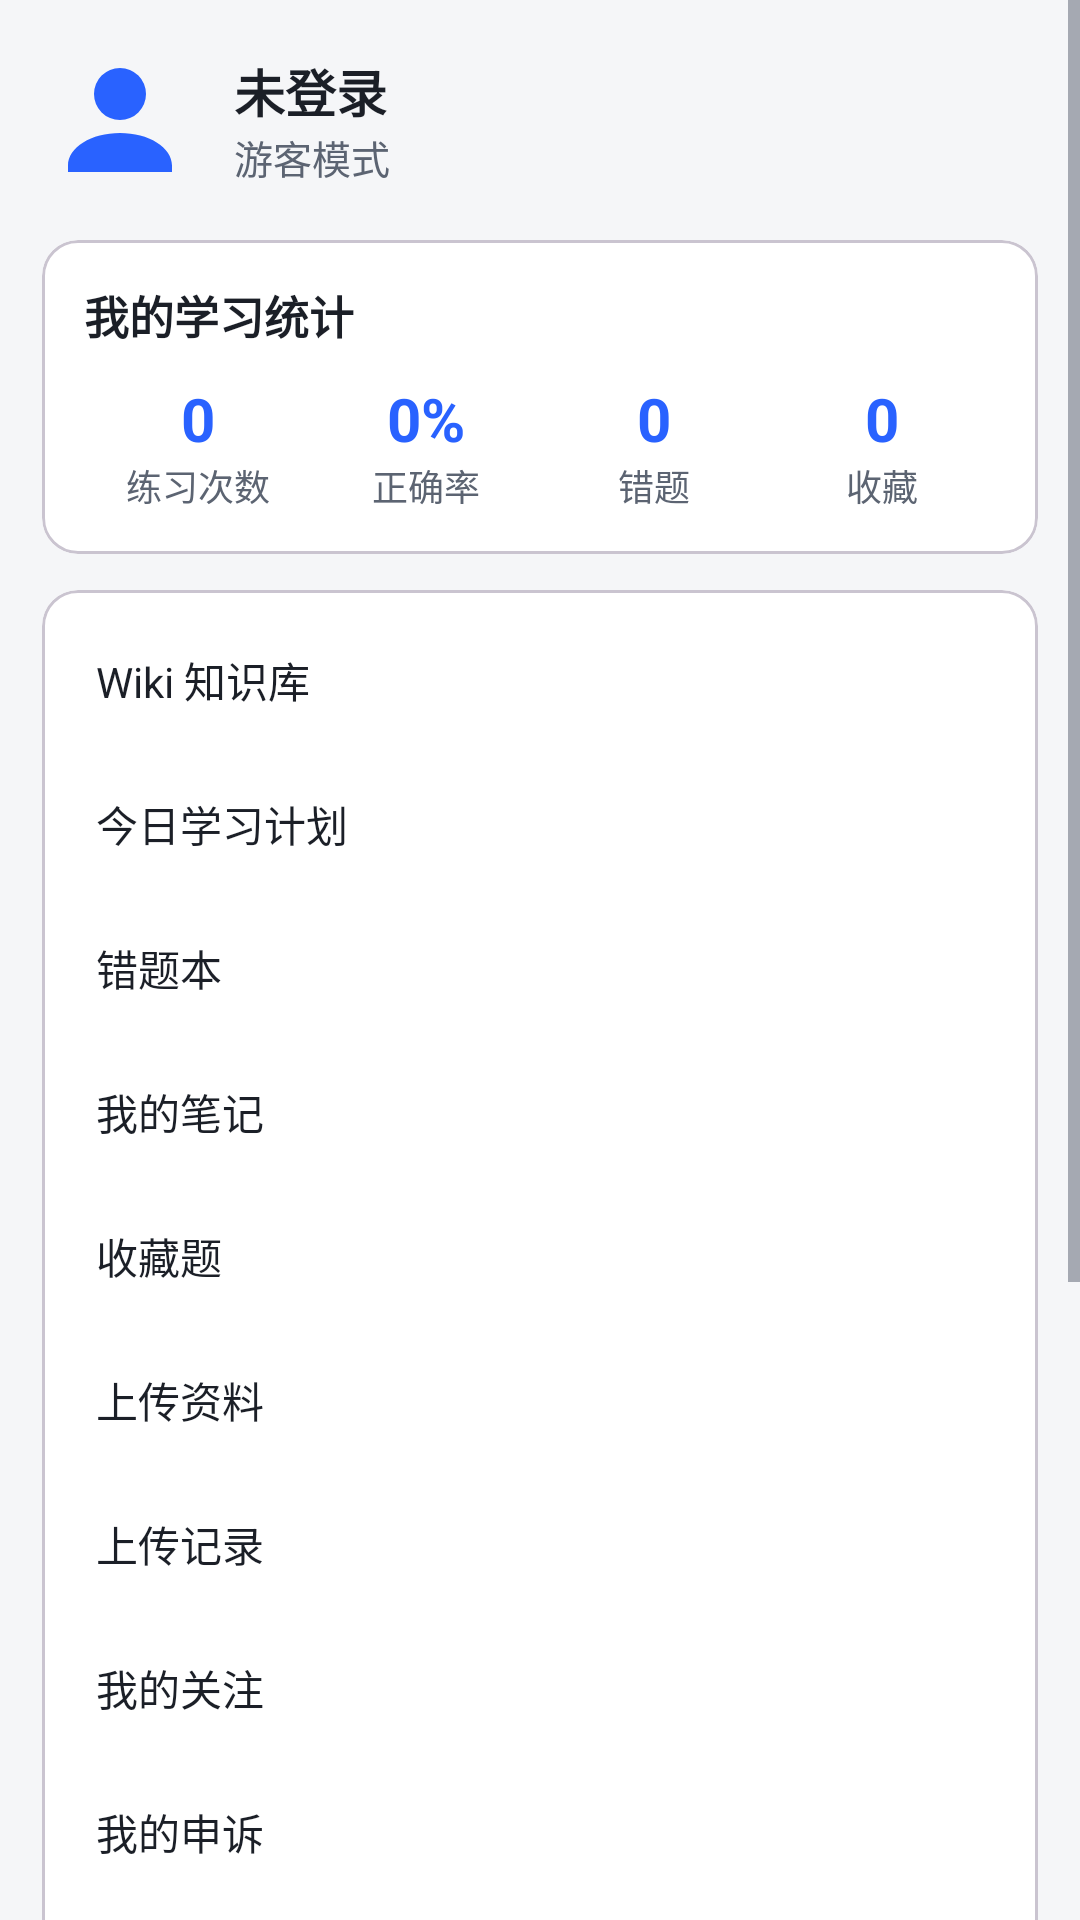

Icon bounding boxes for this 1080*1920 phone screenshot, format (x1,y1,x2,y2):
头像: (68,68,172,172)
